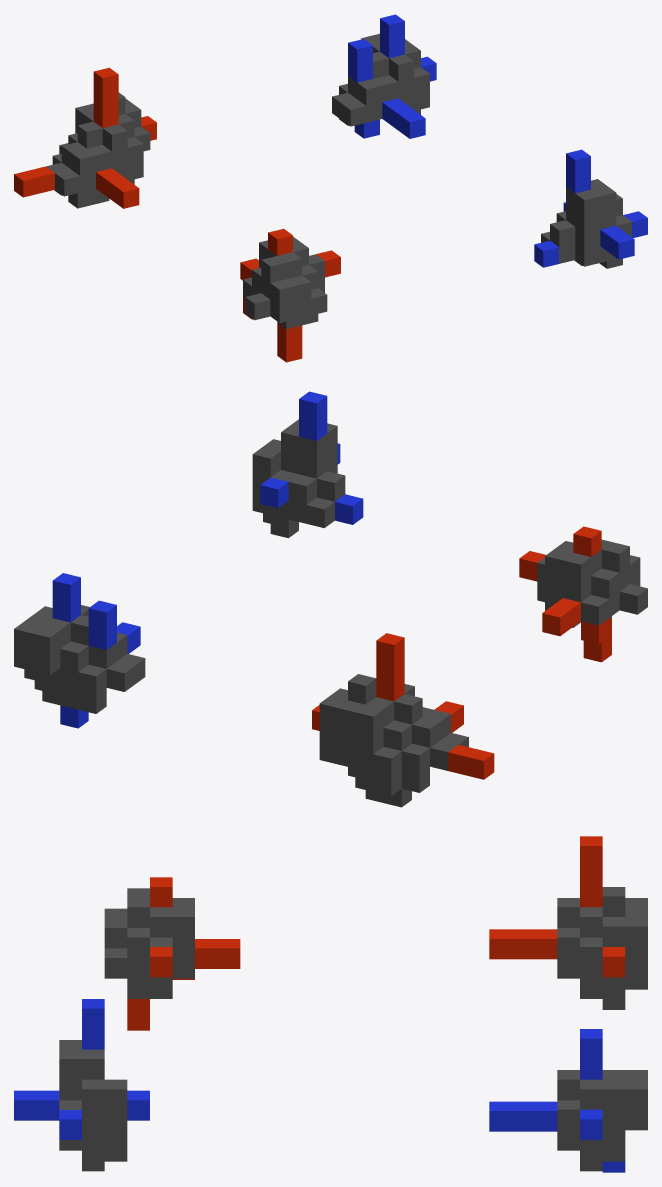
The model's file is obstacle_new_debris.dae.
3 renders of one model, top to bottom at view 1: azimuth 30°, elevation 25°; view 2: azimuth 150°, elevation 25°; view 3: azimuth 270°, elevation 25°, orthographic. The views are drawn at different scales.
Parts seen in each view (by area): view 1: Big_obstacle_debris, Small_obstacle_debris, Big_obstacle_debris_1, Small_obstacle_debris_1; view 2: Big_obstacle_debris, Small_obstacle_debris, Big_obstacle_debris_1, Small_obstacle_debris_1; view 3: Big_obstacle_debris, Small_obstacle_debris, Big_obstacle_debris_1, Small_obstacle_debris_1.
Boxes of the visible parts, x1=… form: Big_obstacle_debris: x1=14, y1=67, x2=156, y2=208; Small_obstacle_debris: x1=332, y1=14, x2=436, y2=138; Big_obstacle_debris_1: x1=240, y1=228, x2=340, y2=362; Small_obstacle_debris_1: x1=534, y1=149, x2=647, y2=268; Big_obstacle_debris: x1=312, y1=633, x2=494, y2=807; Small_obstacle_debris: x1=14, y1=573, x2=145, y2=728; Big_obstacle_debris_1: x1=519, y1=526, x2=647, y2=662; Small_obstacle_debris_1: x1=252, y1=391, x2=363, y2=538; Big_obstacle_debris: x1=489, y1=836, x2=647, y2=1009; Small_obstacle_debris: x1=489, y1=1029, x2=647, y2=1172; Big_obstacle_debris_1: x1=104, y1=877, x2=240, y2=1030; Small_obstacle_debris_1: x1=14, y1=999, x2=149, y2=1171.
Bounding box in the file's own units: 26 × 9 × 28.
